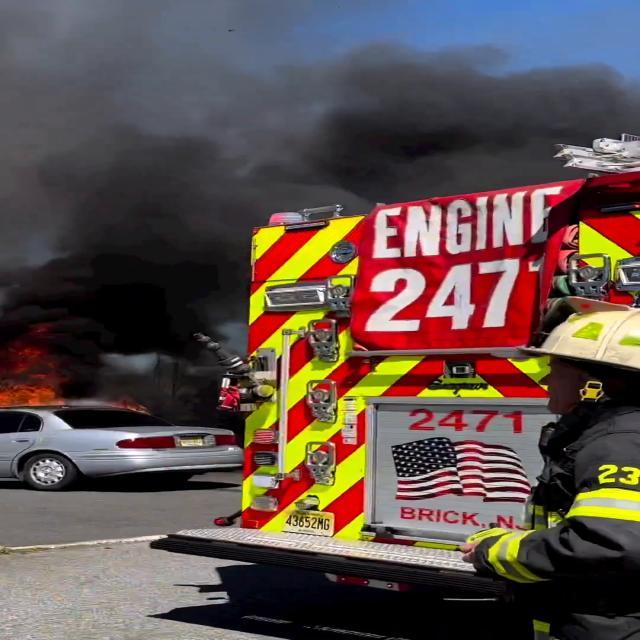Smoke: (25, 73, 234, 328), (243, 78, 585, 174)
